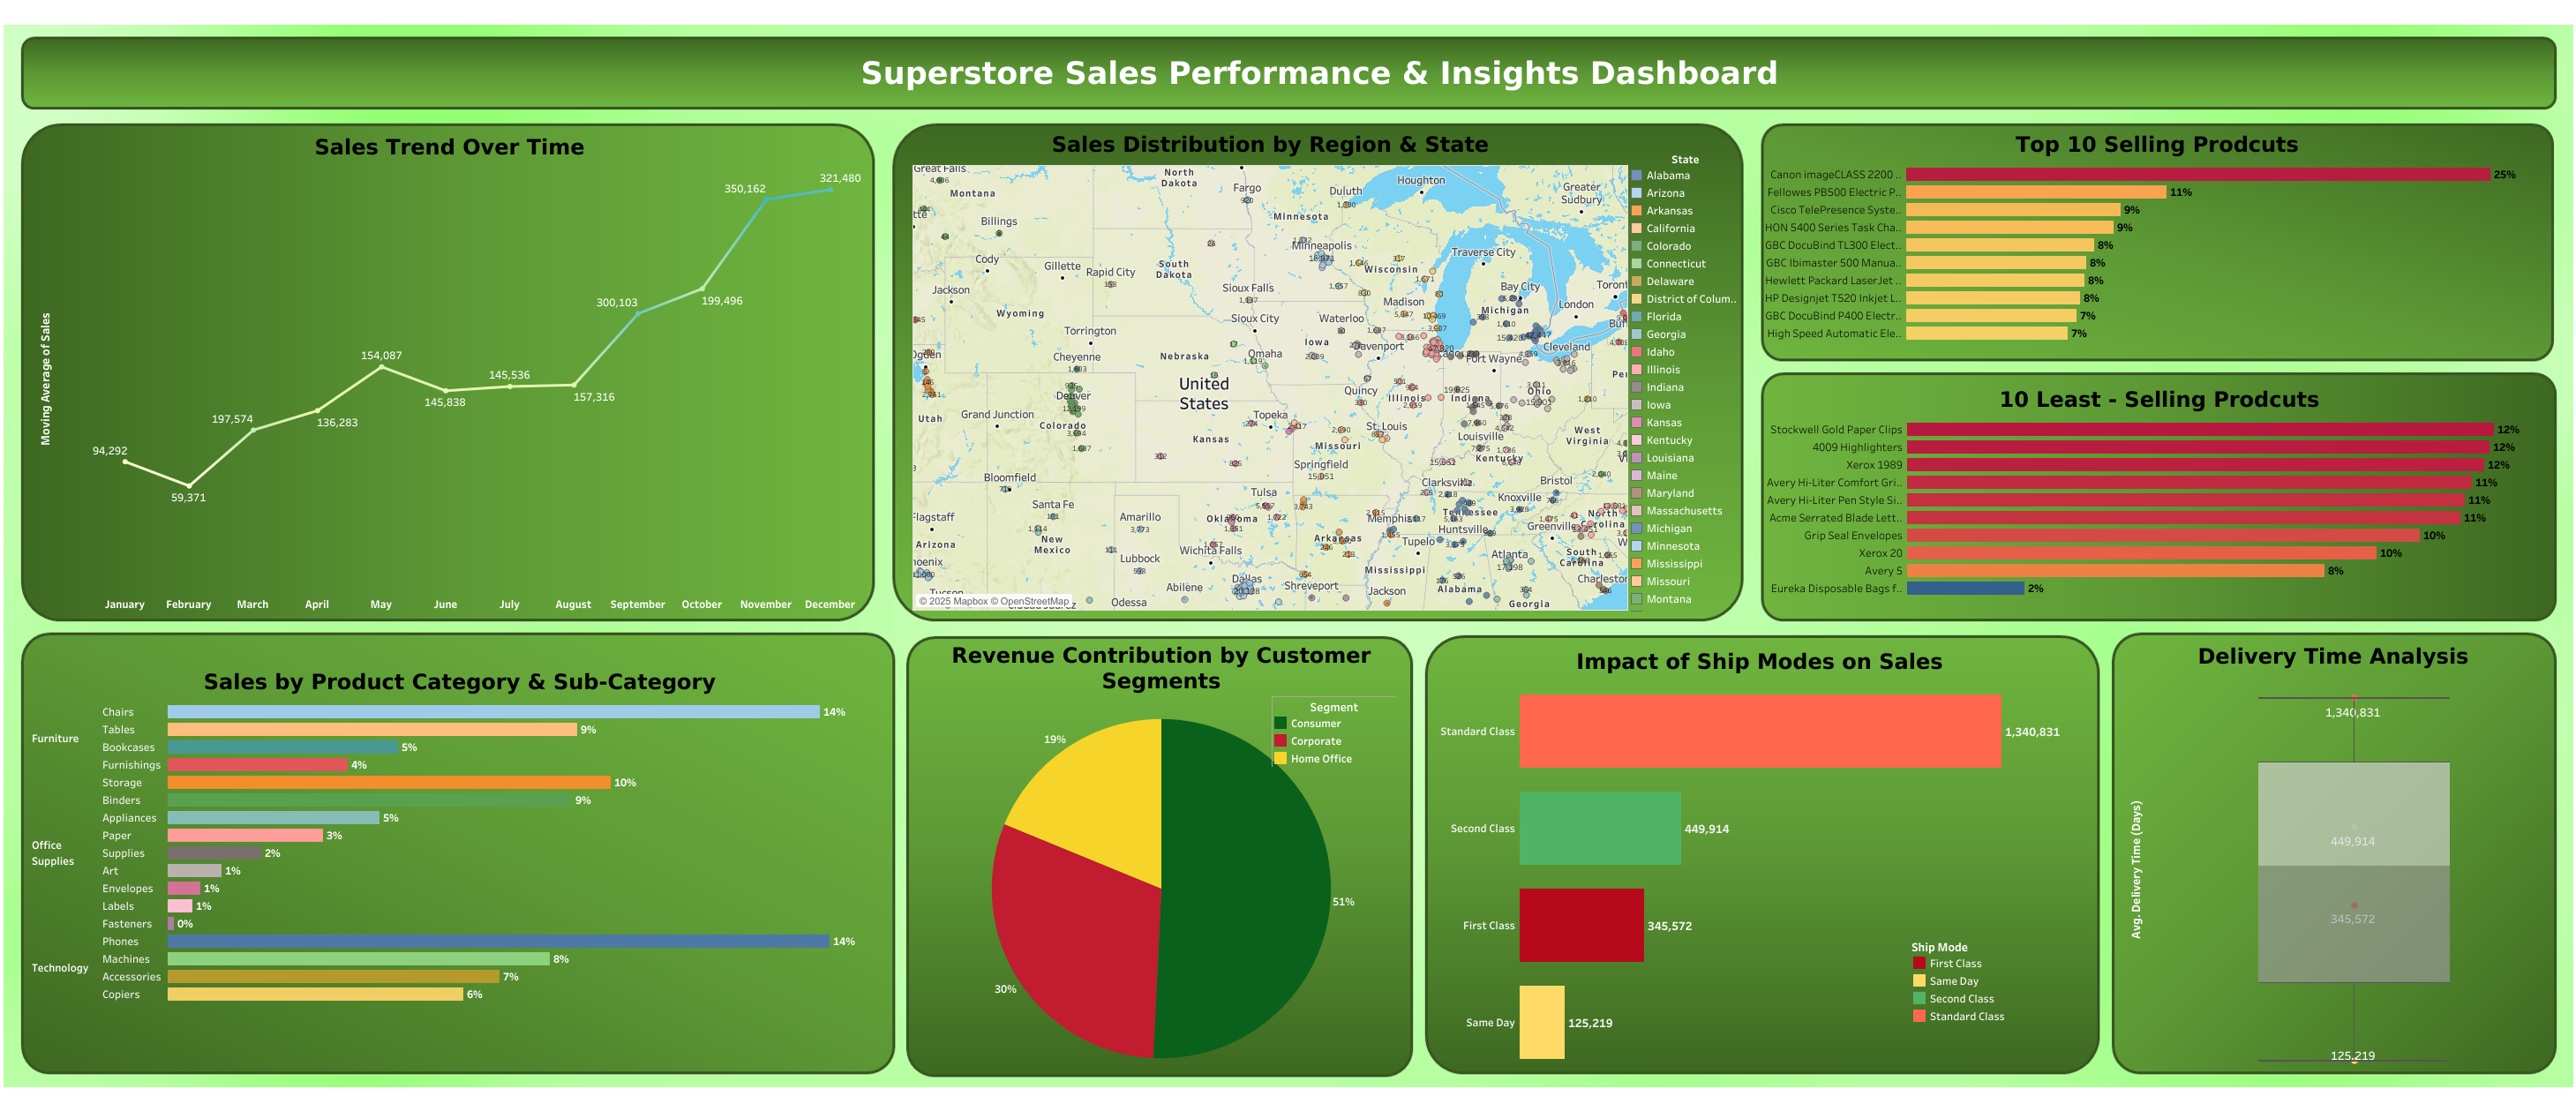

The page's visual inventory and layout, read from the dashboard file:
{"tool":"tableau","page":{"name":"Superstore Sales Performance & Insights Dashboard","canvas":[2920,1260],"ordinal":0},"visuals":[{"type":"image","param":"Image/Presentation1.png","box":[0,0,2920,1260]},{"type":"title","box":[717,53,1557,59]},{"type":"worksheet","title":"Sales Distribution by Region & State","mark":"Multipolygon","box":[1034,143,811,549]},{"type":"worksheet","title":"Top 10 Selling Products","mark":"Automatic","rows":["Product_Name"],"cols":["Sales"],"box":[2000,143,889,260]},{"type":"worksheet","title":" Sales Trend Over Time","mark":"Line","rows":["Sales"],"cols":["Order_Date"],"box":[34,146,943,547]},{"type":"legend","title":"Sales Distribution by Region & State","param":"[federated.0jdhkyj0nlpsnc1g9htya1idb8p8].[none:State:nk]","box":[1844,169,130,524]},{"type":"worksheet","title":"10 Least-Selling Products ","mark":"Automatic","rows":["Product_Name"],"cols":["Sales"],"box":[2001,432,892,265]},{"type":"worksheet","title":"Revenue Contribution by Customer Segments","mark":"Pie","box":[1031,722,570,497]},{"type":"worksheet","title":"Delivery Time Analysis","mark":"Circle","rows":["Calculation_529735965486039040"],"box":[2403,723,482,483]},{"type":"worksheet","title":"Impact of Ship Modes on Sales & Delivery Time","mark":"Automatic","rows":["Ship_Mode"],"cols":["Sales"],"box":[1624,727,744,484]},{"type":"worksheet","title":"Sales by Product Category & Sub-Category","mark":"Bar","rows":["Category","Sub_Category"],"cols":["Sales"],"box":[30,752,982,420]},{"type":"legend","title":"Revenue Contribution by Customer Segments","param":"[federated.0jdhkyj0nlpsnc1g9htya1idb8p8].[none:Segment:nk]","box":[1441,789,140,85]},{"type":"legend","title":"Impact of Ship Modes on Sales & Delivery Time","param":"[federated.0jdhkyj0nlpsnc1g9htya1idb8p8].[none:Ship_Mode:nk]","box":[2165,1061,186,116]}]}

Visuals, with their boxes in screenshot pixels (x1, y1, x2, y2), scaled from the page's 2920x1260 canvas onto the 2576x1111 screenshot:
image: (left=0, top=0, right=2575, bottom=1110)
title: (left=633, top=47, right=2006, bottom=99)
"Sales Distribution by Region & State" worksheet (Multipolygon marks): (left=912, top=126, right=1627, bottom=610)
"Top 10 Selling Products" worksheet: (left=1764, top=126, right=2549, bottom=356)
" Sales Trend Over Time" worksheet (Line marks): (left=30, top=129, right=862, bottom=611)
"Sales Distribution by Region & State" legend: (left=1626, top=149, right=1741, bottom=611)
"10 Least-Selling Products " worksheet: (left=1765, top=381, right=2552, bottom=614)
"Revenue Contribution by Customer Segments" worksheet (Pie marks): (left=910, top=636, right=1412, bottom=1075)
"Delivery Time Analysis" worksheet (Circle marks): (left=2120, top=637, right=2545, bottom=1063)
"Impact of Ship Modes on Sales & Delivery Time" worksheet: (left=1432, top=641, right=2089, bottom=1068)
"Sales by Product Category & Sub-Category" worksheet (Bar marks): (left=26, top=663, right=893, bottom=1033)
"Revenue Contribution by Customer Segments" legend: (left=1272, top=695, right=1394, bottom=770)
"Impact of Ship Modes on Sales & Delivery Time" legend: (left=1910, top=935, right=2074, bottom=1038)
